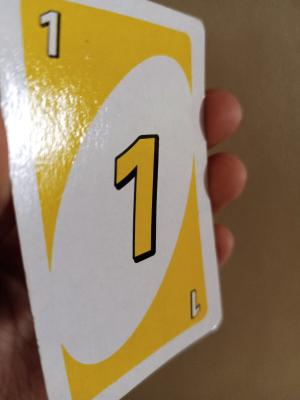num_1: (20, 6, 82, 81), (165, 269, 211, 330)
yellow: (94, 125, 184, 272)
